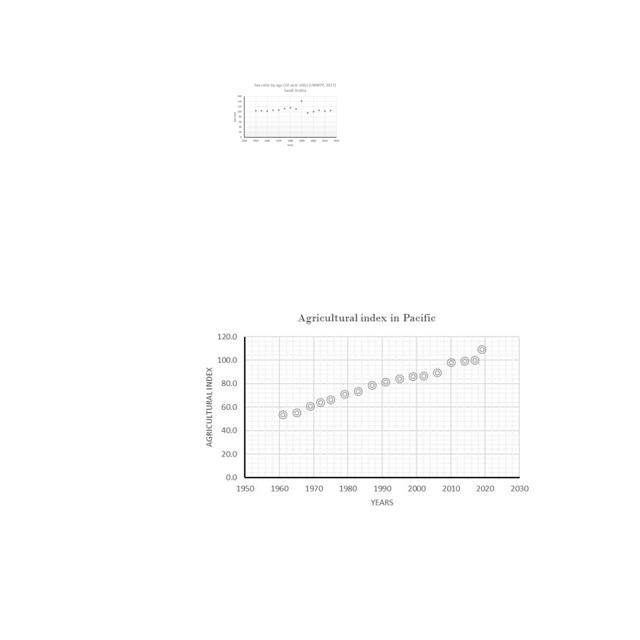Graph: (194, 308, 535, 509), (231, 81, 341, 149)
